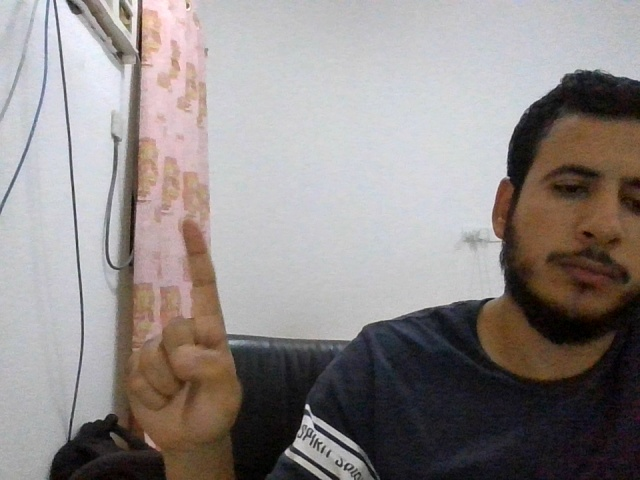One: (126, 216, 243, 450)
